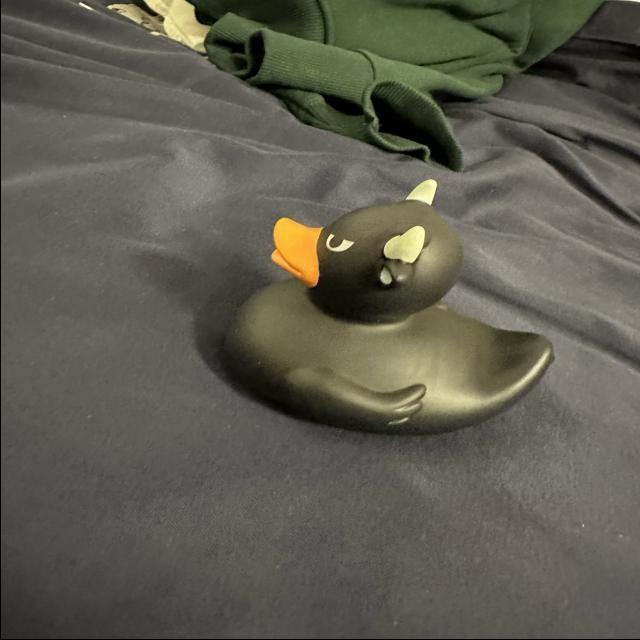rubber-duck: (225, 178, 551, 431)
